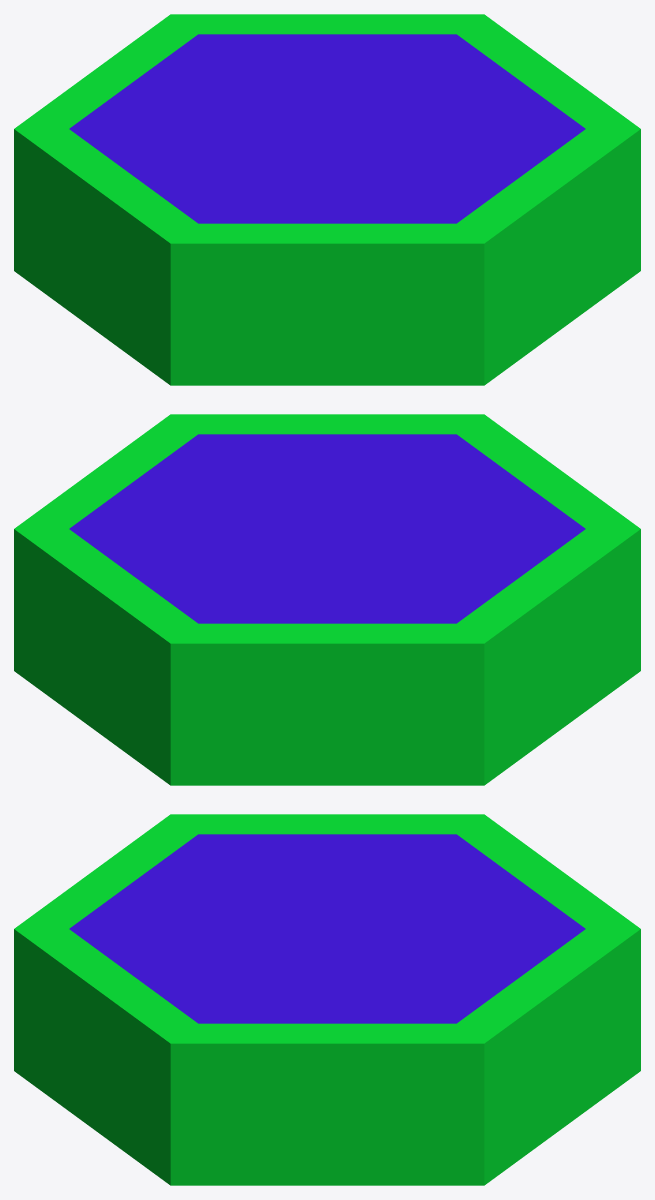
The model's file is Hexagon.FBX.
The picture shows the model from 3 angles, top to bottom: view 1: azimuth 30°, elevation 25°; view 2: azimuth 150°, elevation 25°; view 3: azimuth 270°, elevation 25°; orthographic projection.
Visible parts, largest first — view 1: Line001; view 2: Line001; view 3: Line001.
Boxes of the visible parts, box(x1,y1,x2,y2) form: Line001: box(14, 14, 640, 385); Line001: box(14, 414, 640, 785); Line001: box(14, 814, 640, 1185).
Size of the model in its own units: 1.73 by 2 by 0.5.
